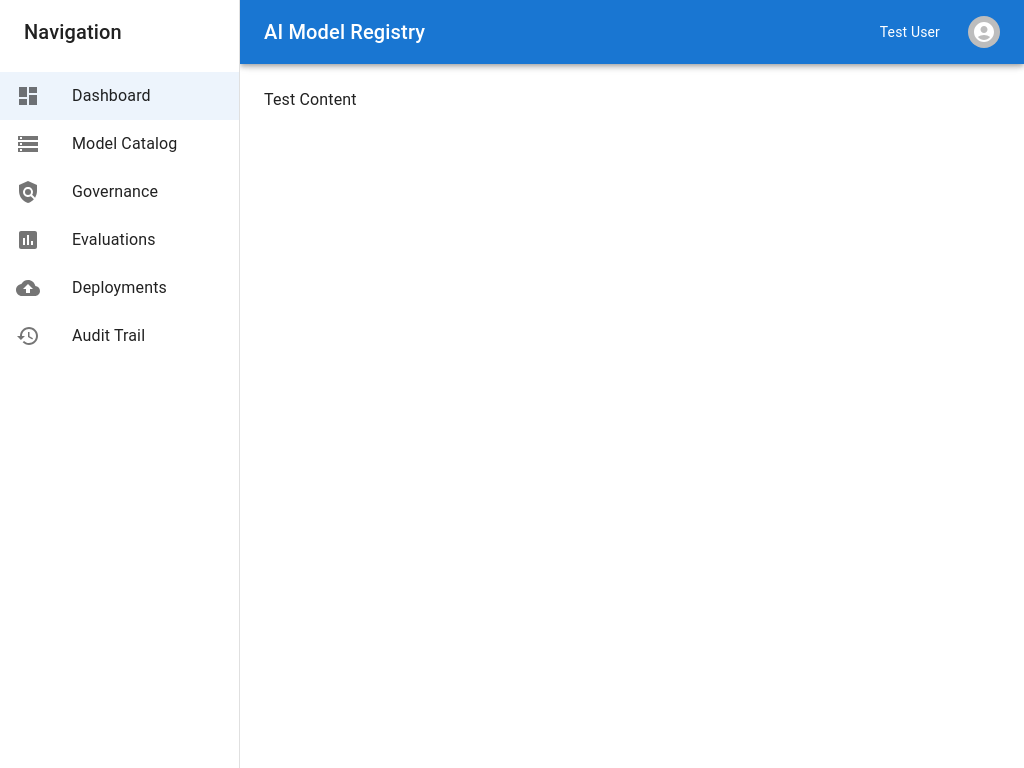
Scenario: Layout › closes profile menu when clicking outside
The width and height of the screenshot is (1024, 768).
Open profile menu
Click the button named "account of current user" at (984, 32), box [956,4,1012,60]
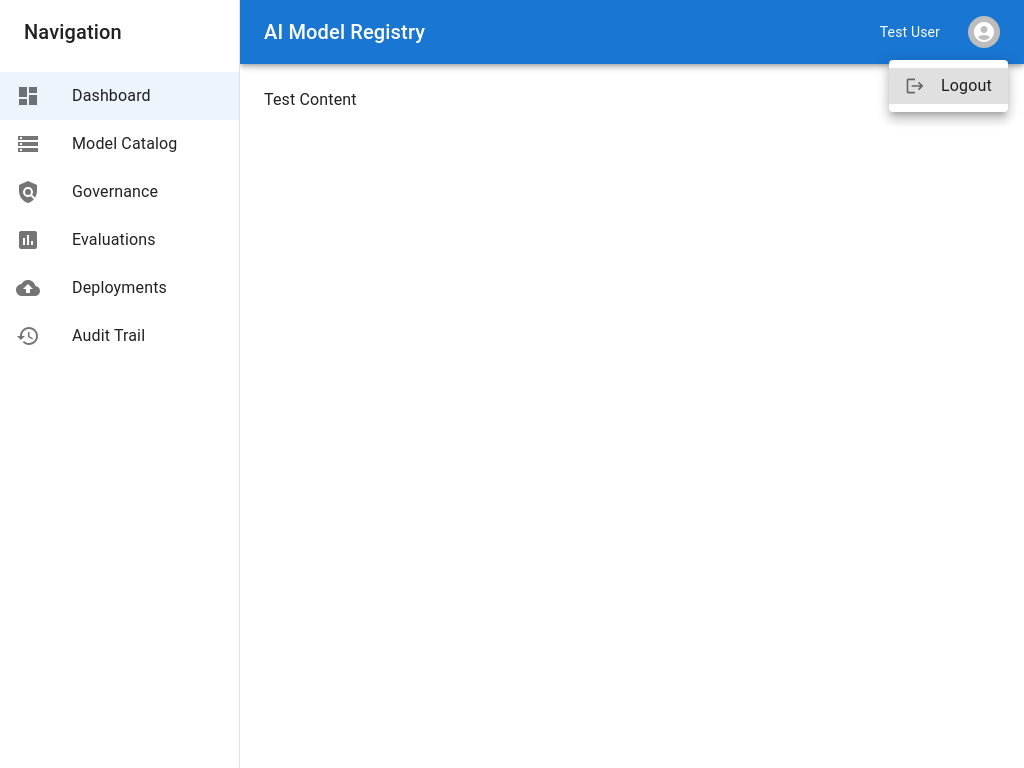
Expected: the menu item "Logout" is shown, [889,68,1008,104]
Press Escape to close menu (more reliable than clicking outside)
Press Escape
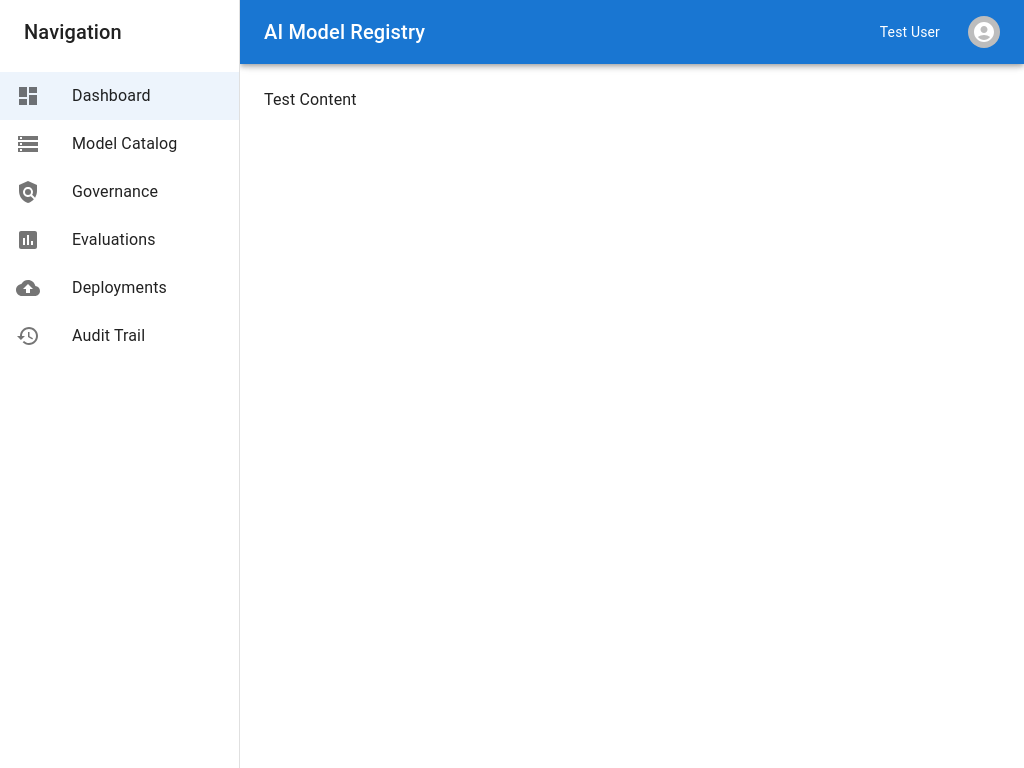
Expected: the menu item "Logout" is gone
